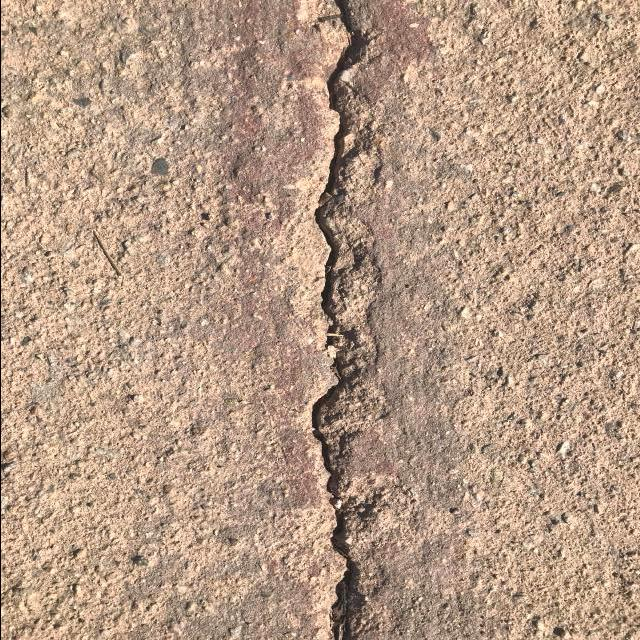SurfaceCrack: (278, 1, 412, 640)
